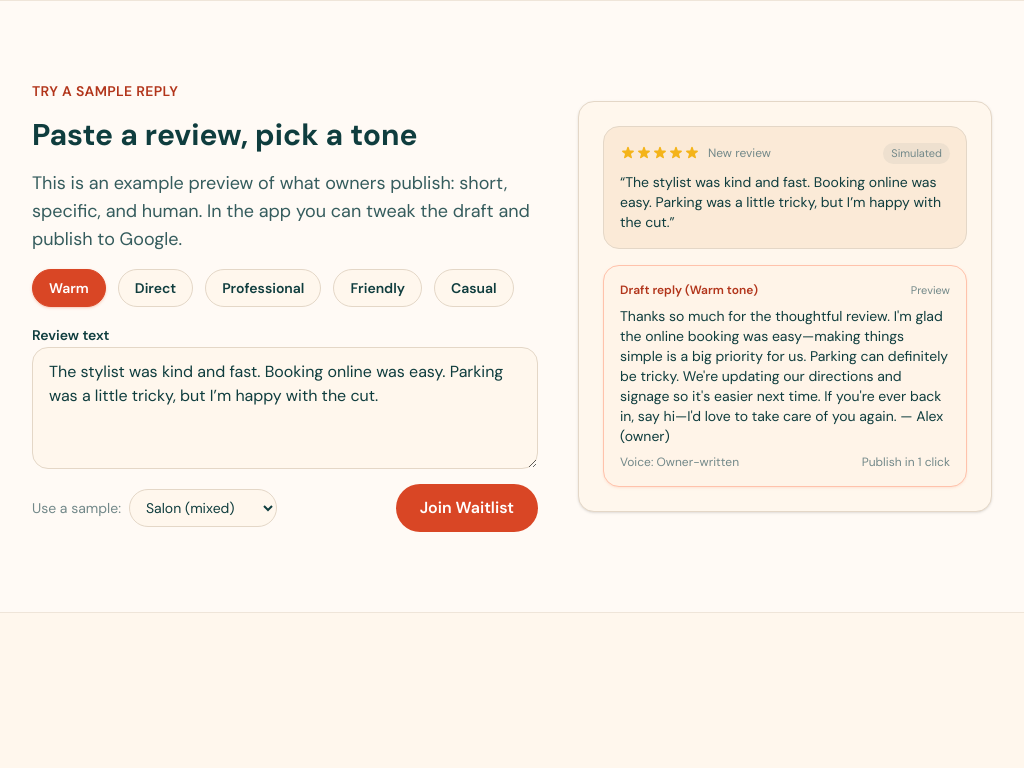
Scenario: components/landing/LiveDemo › Sample review selection › updates draft when sample changes
Expected: the text "Parking can" is shown, [620,307,948,445]
Switch to dental sample (has wait time)
Select "Dental (tough)" in the dropdown named "Choose a sample review". click: (203, 508)
box: [129,489,277,527]
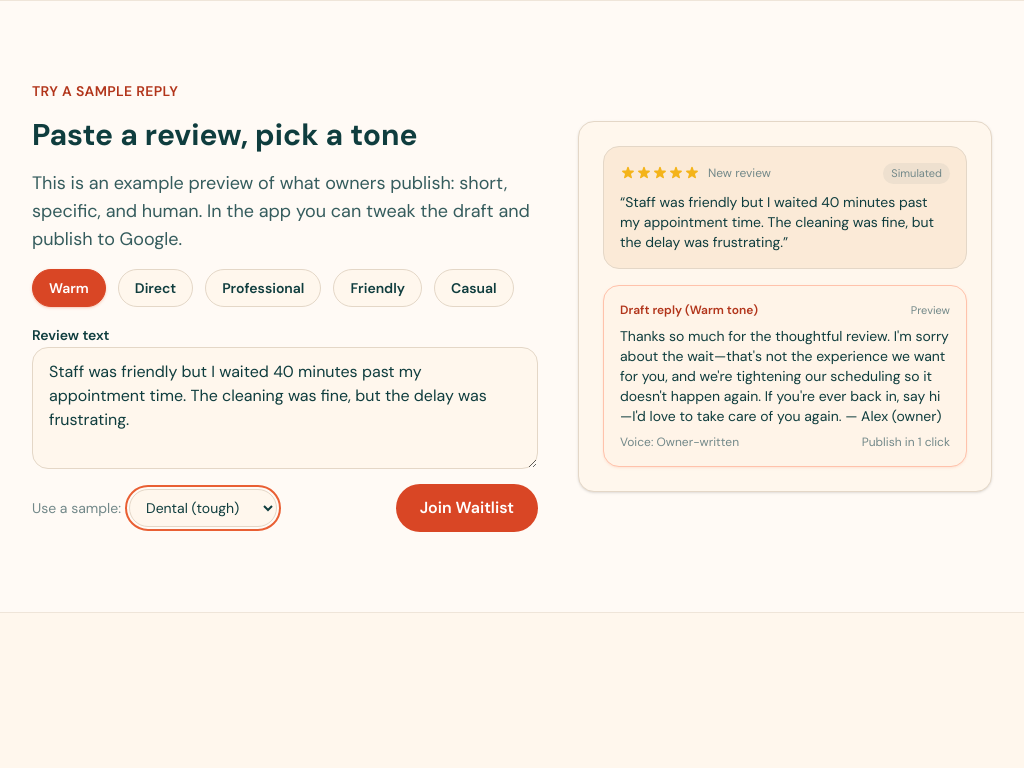
Result: the text "sorry about the wait" is shown at [620,327,949,425]
